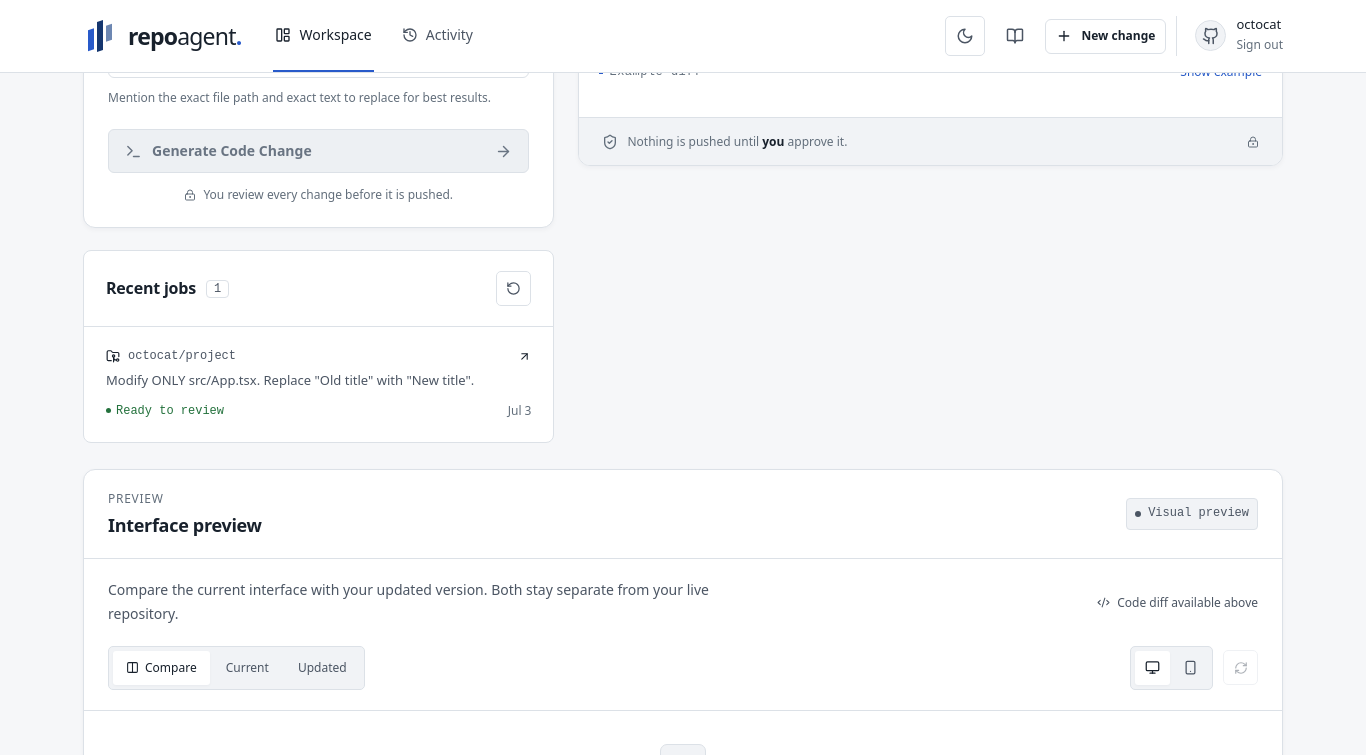
Test case: RepoAgent signed-in workflow › restores a saved completed job without creating it again or announcing a new result
This screenshot has width=1366, height=755.
(page scrolled)
Click the button with aria-label "Open job 75: octocat/project" at {"x": 319, "y": 385}, box [91,334,546,436]
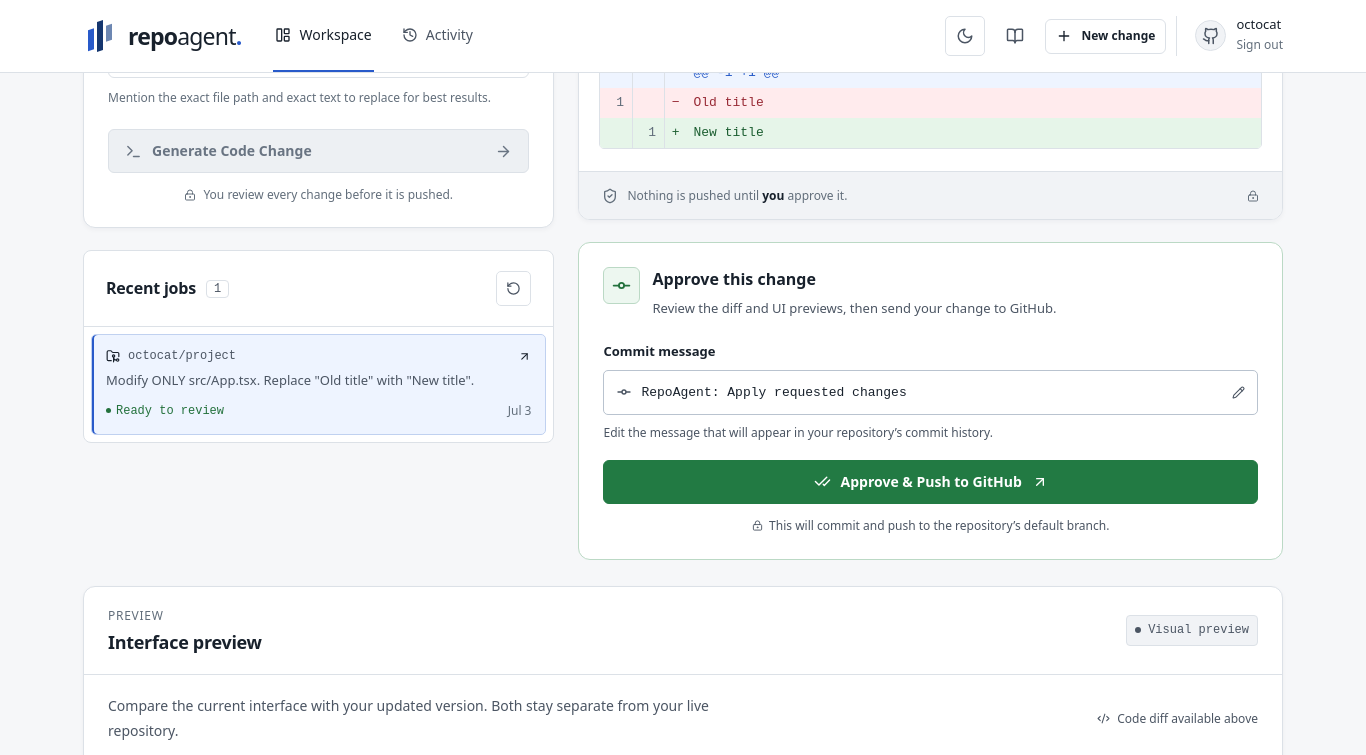
Result: the table named "Unified diff for src/App.tsx" is shown at [600,58,1261,148]
Result: the button "Approve & Push to GitHub" is shown at [604,460,1258,504]
Result: the field labelled "Commit message" holds "RepoAgent: Apply requested changes" at [642,383,1223,402]
